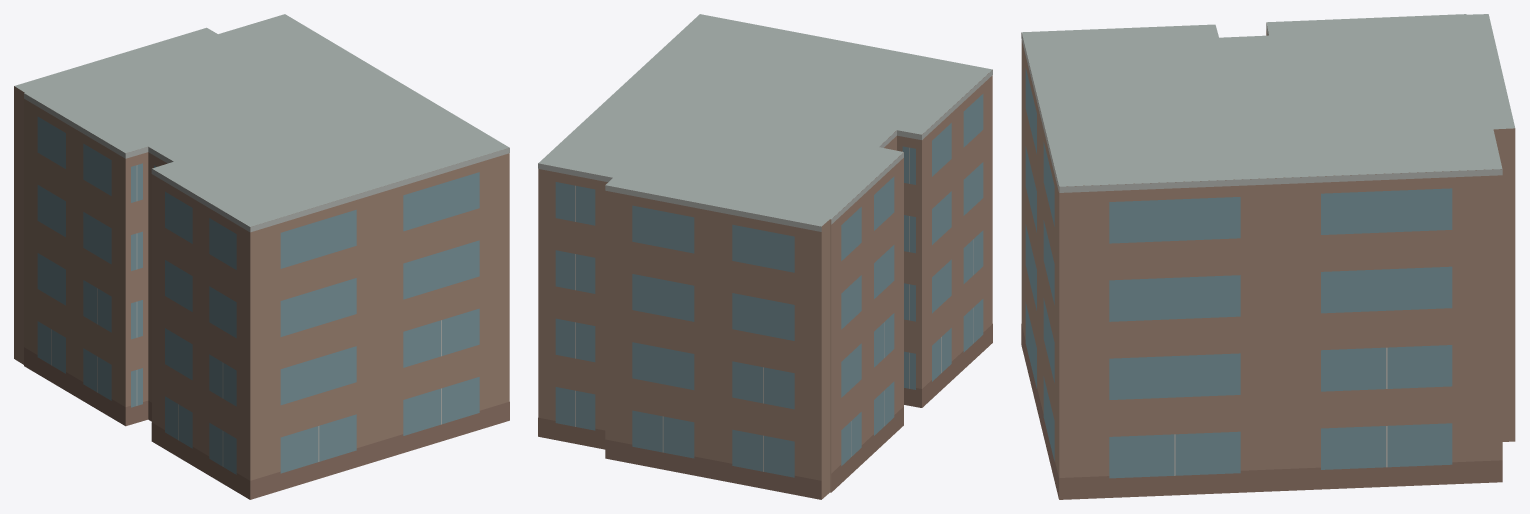
Rendered from survey-upis-32663602.glb.
3 renders of one model, left to right at view 1: azimuth 30°, elevation 25°; view 2: azimuth 150°, elevation 25°; view 3: azimuth 270°, elevation 25°, orthographic. The views are drawn at different scales.
Visible parts, largest first — view 1: survey-upis-32663602.tmp; view 2: survey-upis-32663602.tmp; view 3: survey-upis-32663602.tmp.
Boxes of the visible parts, x1=… form: survey-upis-32663602.tmp: x1=14, y1=14, x2=509, y2=499; survey-upis-32663602.tmp: x1=538, y1=14, x2=992, y2=499; survey-upis-32663602.tmp: x1=1021, y1=14, x2=1515, y2=499.
Bounding box in the file's own units: 14.44 × 12.2 × 17.45.
